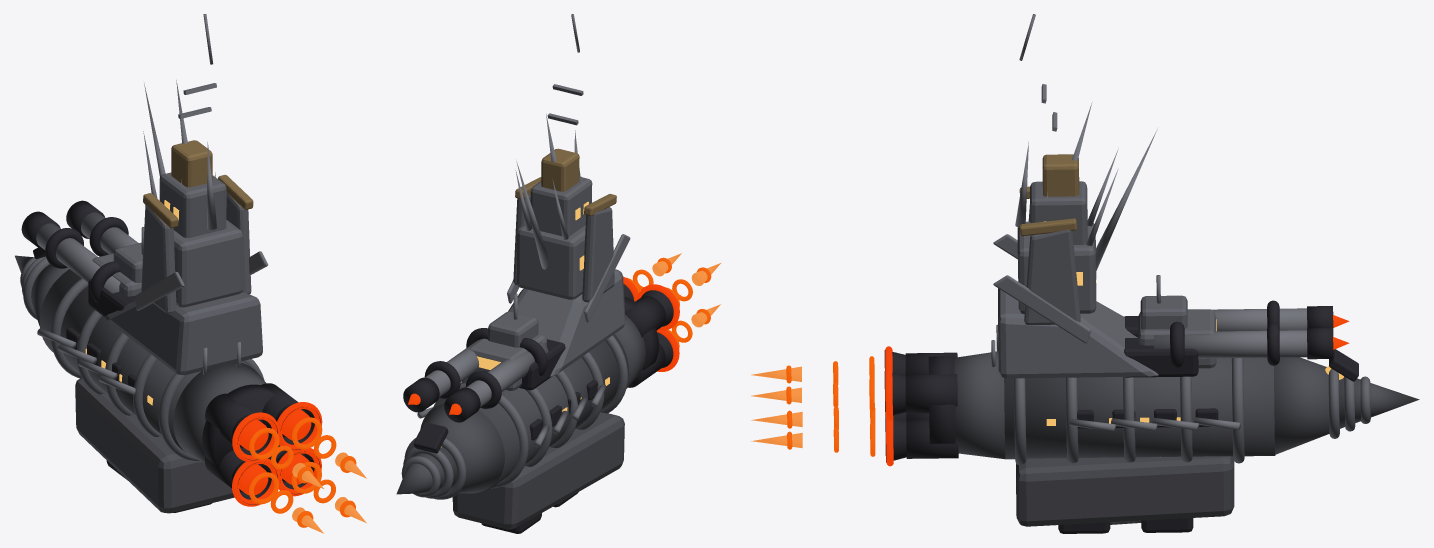
The model's file is gunship.glb.
3 views of the same model, side by side, from view 1: azimuth 30°, elevation 25°; view 2: azimuth 150°, elevation 25°; view 3: azimuth 270°, elevation 25° (orthographic). The views are drawn at different scales.
Parts seen in each view (by area): view 1: VentralBody, TowerBase, HullMid, TowerMid, HullAft, TowerHigh, ButtressL, GunL, EngineDeck, TowerCrown, EngCanE1, HullBand4 (+32 smaller); view 2: VentralBody, HullMid, TowerBase, TowerMid, HullFore, TowerHigh, ButtressL, TowerCrown, GunL, ConStep, Prow, HullAft (+26 smaller); view 3: HullMid, VentralBody, TowerBase, HullAft, HullFore, ButtressR, GunR, TowerHigh, TowerMid, EngCanE0, GunL, GunBaseR (+14 smaller).
Boxes of the visible parts, <box> form: VentralBody: <box>75,377,234,513</box>; TowerBase: <box>105,292,262,375</box>; HullMid: <box>39,269,250,452</box>; TowerMid: <box>173,220,242,307</box>; HullAft: <box>173,362,265,462</box>; TowerHigh: <box>159,172,226,237</box>; ButtressL: <box>141,204,176,314</box>; GunL: <box>36,223,120,293</box>; EngineDeck: <box>202,384,275,467</box>; TowerCrown: <box>171,140,212,187</box>; EngCanE1: <box>205,393,262,447</box>; HullBand4: <box>158,359,264,460</box>; VentralBody: <box>452,412,624,529</box>; HullMid: <box>420,334,628,493</box>; TowerBase: <box>508,269,625,376</box>; TowerMid: <box>516,220,585,299</box>; HullFore: <box>421,403,504,493</box>; TowerHigh: <box>530,176,592,236</box>; ButtressL: <box>582,207,614,302</box>; TowerCrown: <box>541,148,579,191</box>; GunL: <box>466,341,548,407</box>; ConStep: <box>488,311,538,347</box>; Prow: <box>396,447,456,494</box>; HullAft: <box>615,315,645,388</box>; HullMid: <box>1004,357,1275,459</box>; VentralBody: <box>1016,456,1234,526</box>; TowerBase: <box>998,288,1158,378</box>; HullAft: <box>954,351,1005,459</box>; HullFore: <box>1274,357,1329,454</box>; ButtressR: <box>1024,229,1080,324</box>; GunR: <box>1154,330,1307,358</box>; TowerHigh: <box>1030,181,1087,244</box>; TowerMid: <box>1017,221,1096,314</box>; EngCanE0: <box>905,374,957,413</box>; GunL: <box>1212,308,1307,331</box>; GunBaseR: <box>1124,338,1198,377</box>.
Bounding box in the file's own units: 4.22 × 15.22 × 18.07.
